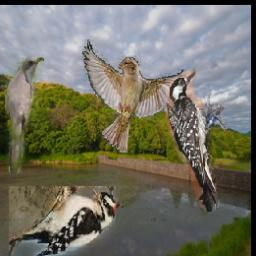Cuckoo: (5, 57, 44, 173)
Sparrow: (82, 38, 186, 153)
Woodpecker: (161, 66, 231, 213), (10, 187, 117, 256)
